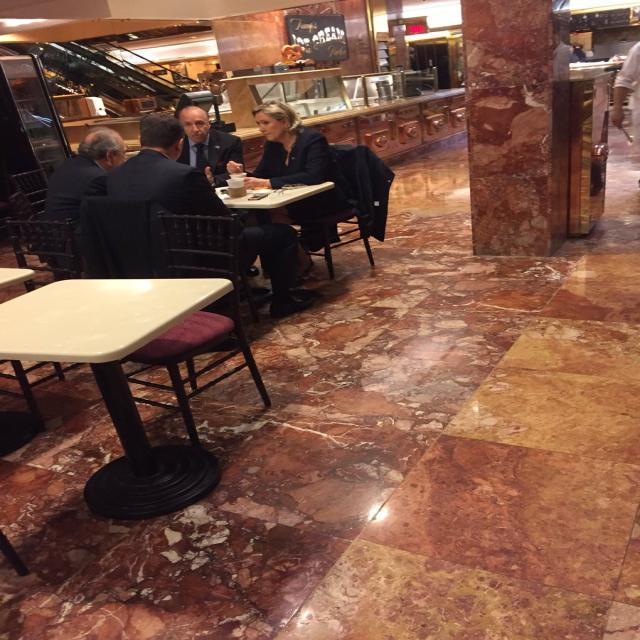body: (102, 110, 318, 319), (224, 99, 344, 278), (43, 125, 130, 279), (174, 105, 245, 189), (608, 38, 640, 136), (562, 38, 595, 64)
